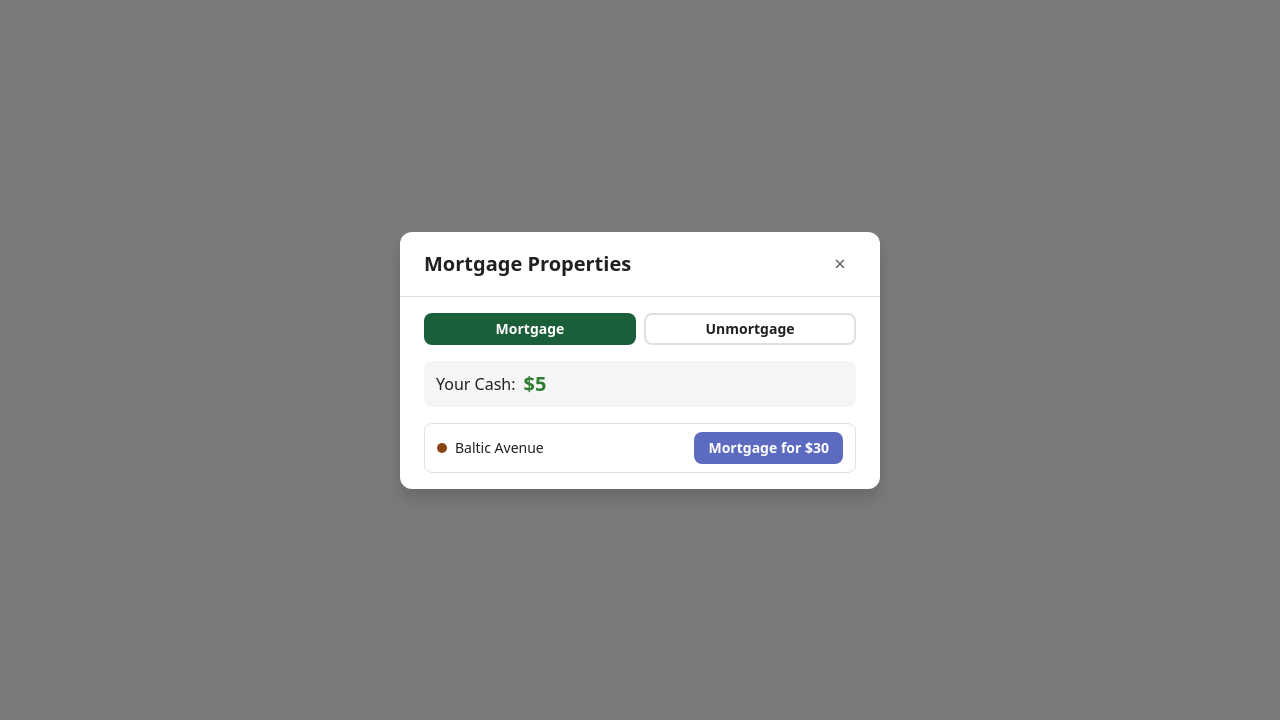
Step 3B.4 — Mortgage Management UI › MortgageManager › P3B.S4.T7: disables unmortgage when insufficient funds
Step 1. Click the button with test id "unmortgage-mode-button" → (750, 328), box x1=644 y1=312 x2=856 y2=344
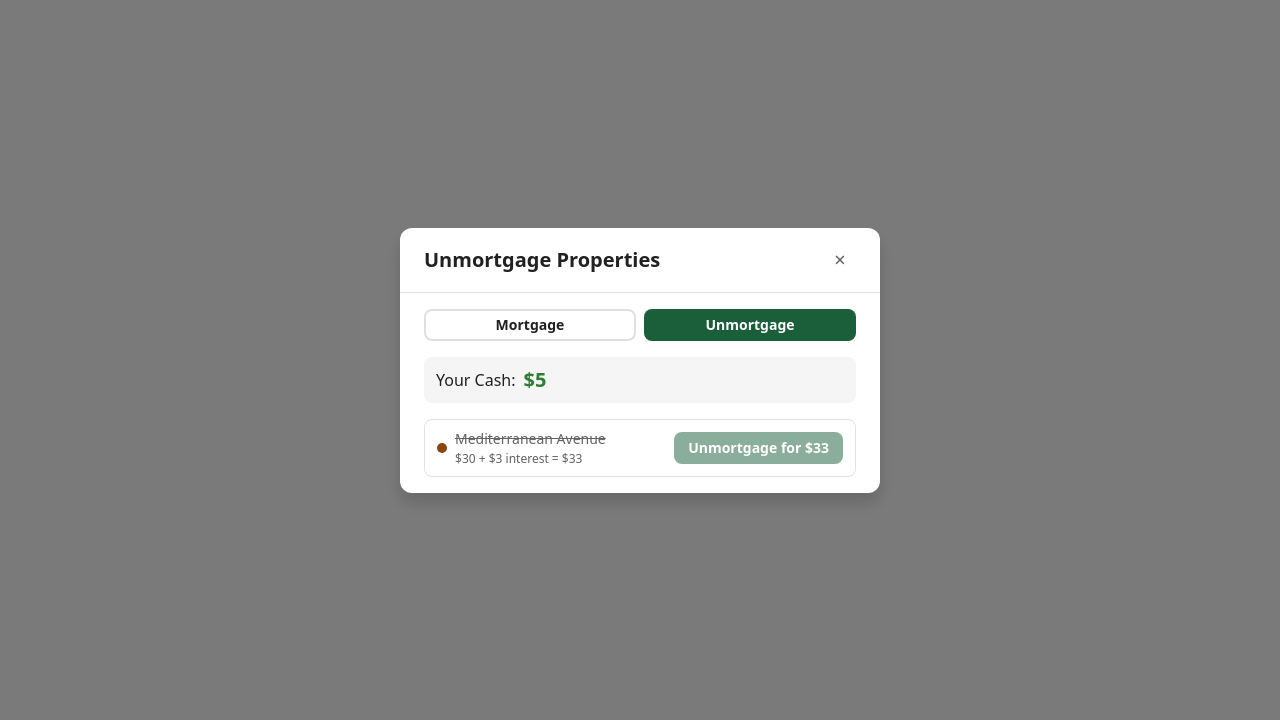
Check: the button with test id "unmortgage-button-1" is disabled, box x1=674 y1=432 x2=843 y2=464
